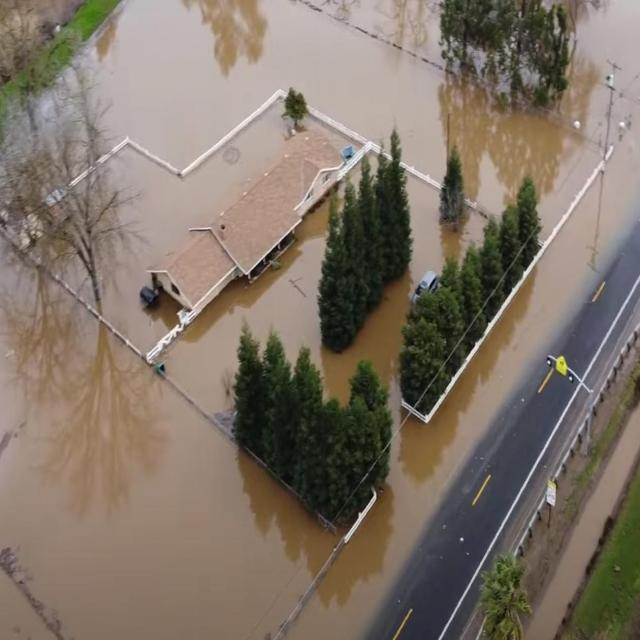flood: (74, 0, 640, 637), (0, 243, 332, 638), (99, 103, 291, 350), (527, 404, 640, 640)
house: (145, 124, 346, 320)
